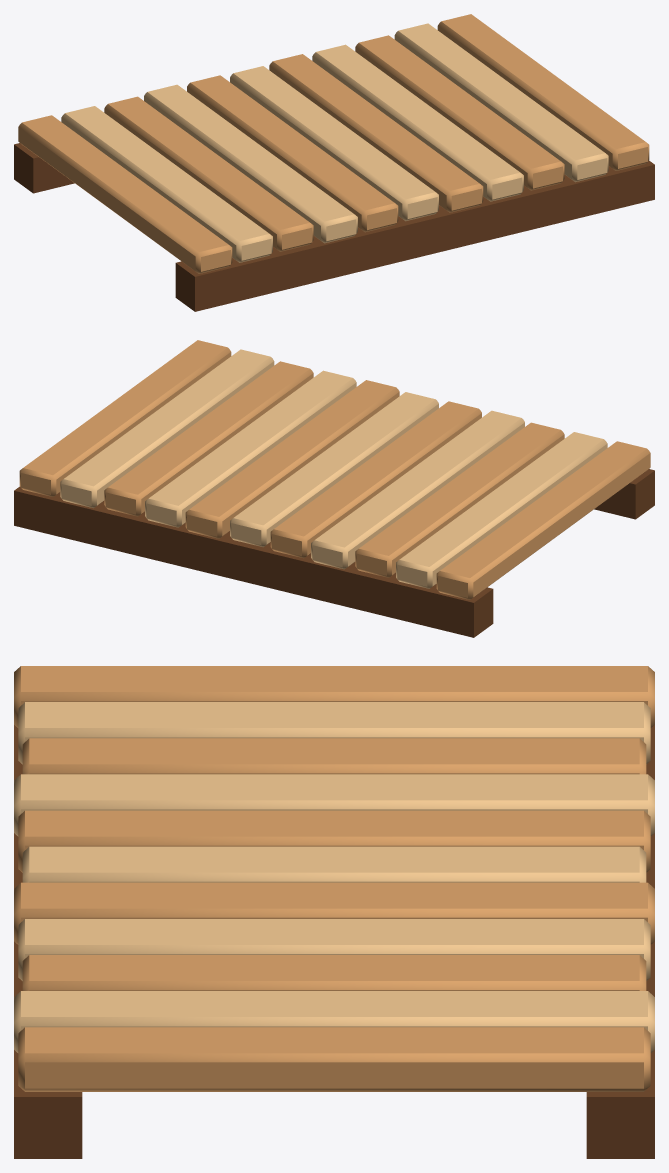
File: dock_walk.fbx
3 views of the same model, one above another, from view 1: azimuth 30°, elevation 25°; view 2: azimuth 150°, elevation 25°; view 3: azimuth 270°, elevation 25° (orthographic). The views are drawn at different scales.
Parts seen in each view (by area): view 1: dock_walk; view 2: dock_walk; view 3: dock_walk.
Part boxes in pixels (box(x1,y1,x2,y2)): dock_walk: box(14, 14, 654, 311); dock_walk: box(14, 340, 654, 637); dock_walk: box(14, 666, 654, 1158).
Size of the model in its own units: 1.1 by 0.13 by 0.75.
